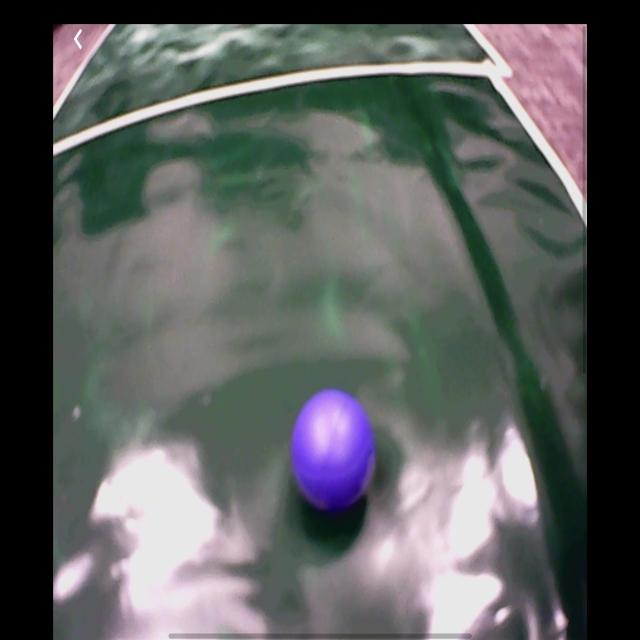ball: (290, 389, 376, 514)
